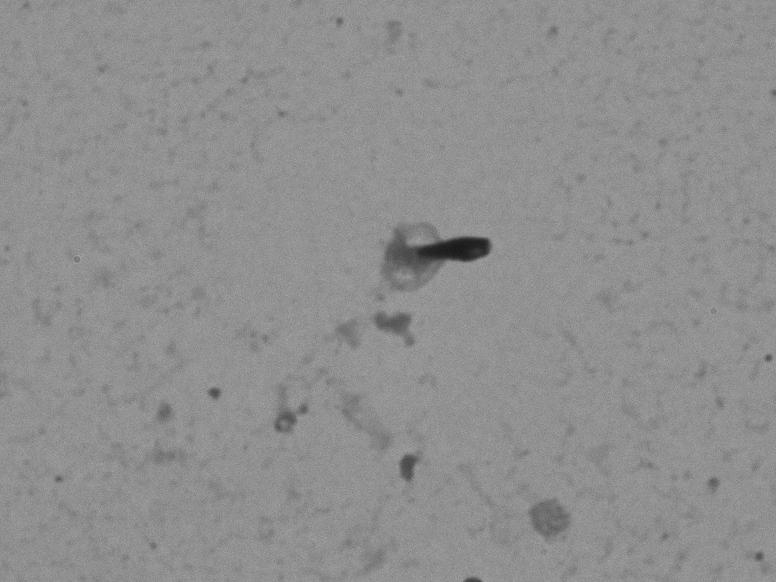Abnormal: (342, 176, 525, 308)
